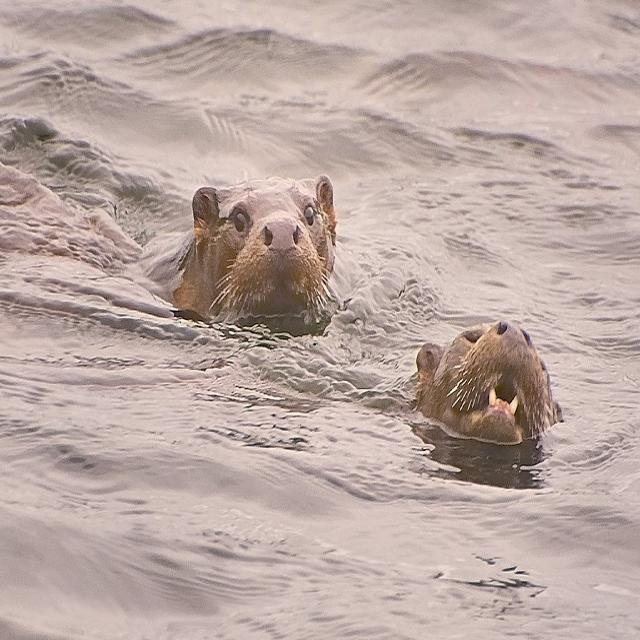otter: (179, 181, 341, 318), (416, 322, 553, 443)
